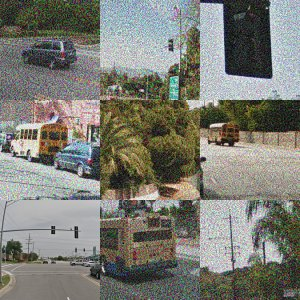公車: (101, 214, 178, 283), (12, 121, 58, 164), (204, 122, 241, 149)
汽車: (17, 36, 80, 75), (59, 139, 98, 177)
紅綠燈: (216, 1, 279, 82), (48, 223, 84, 240), (163, 37, 179, 54)
